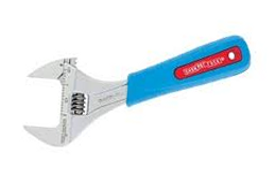Wrench: (14, 27, 259, 149)
